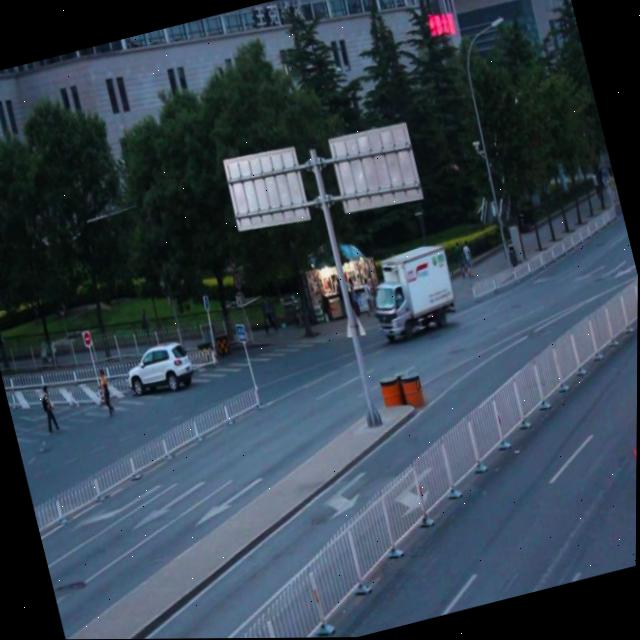bus: (364, 242, 463, 344)
car: (120, 334, 197, 399), (621, 399, 638, 494)
